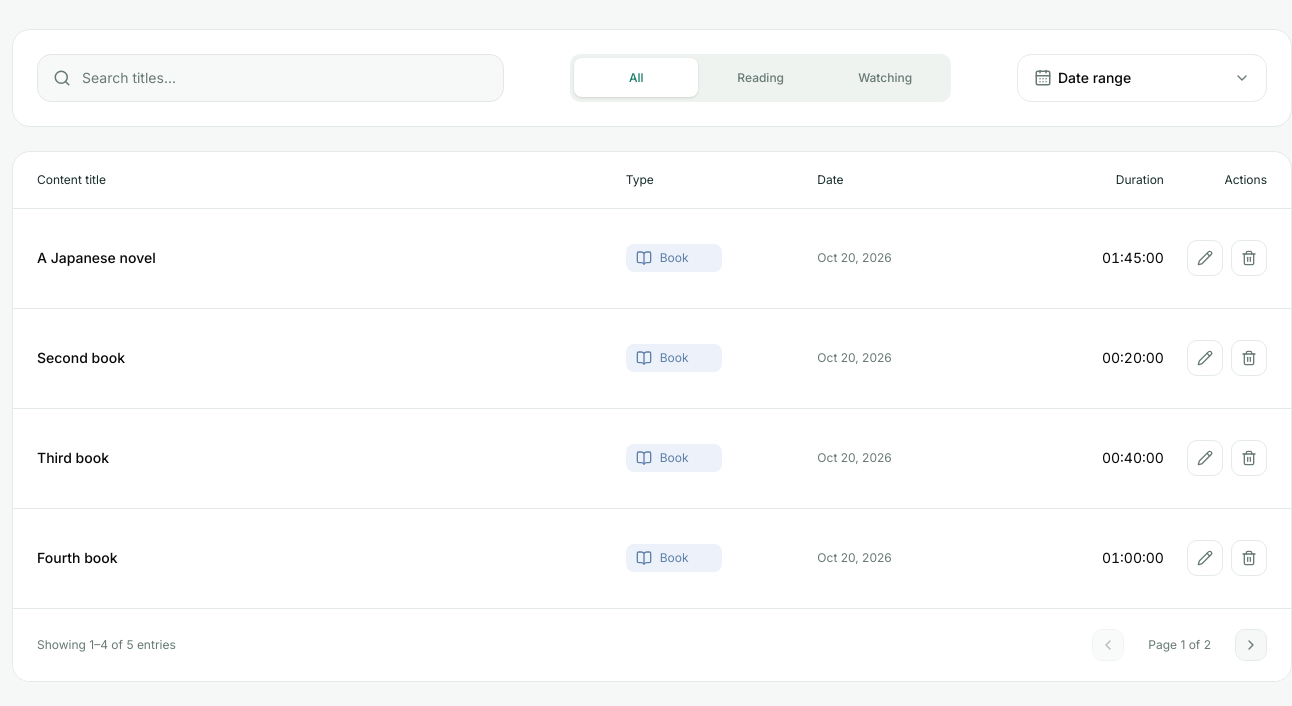
Test: History › shows server sessions and uses backend totals to change pages
(page scrolled)
Expected: the link "A Japanese novel" is shown, [37,249,156,266]
Expected: the text "01:45:00" is shown, [1023,208,1176,308]
Click the button named "Next page" at (1251, 645), box [1235,629,1267,661]
(page scrolled)
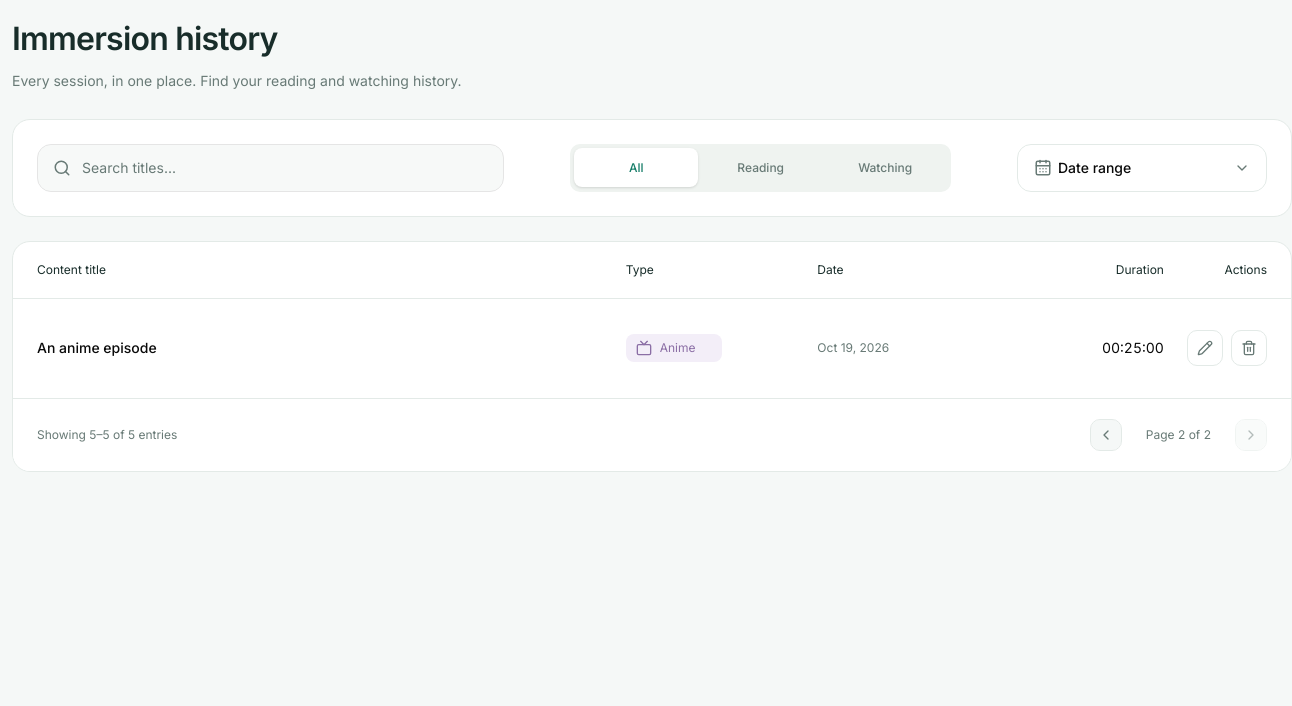
Now the link "An anime episode" is shown, box [37,339,157,356]
Now the link "A Japanese novel" is gone
Now the text "Page 2 of 2" is shown, box [1146,427,1211,443]
